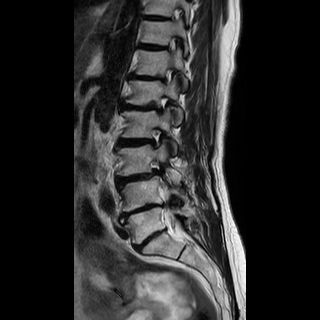LFS1: (143, 123, 168, 154)
